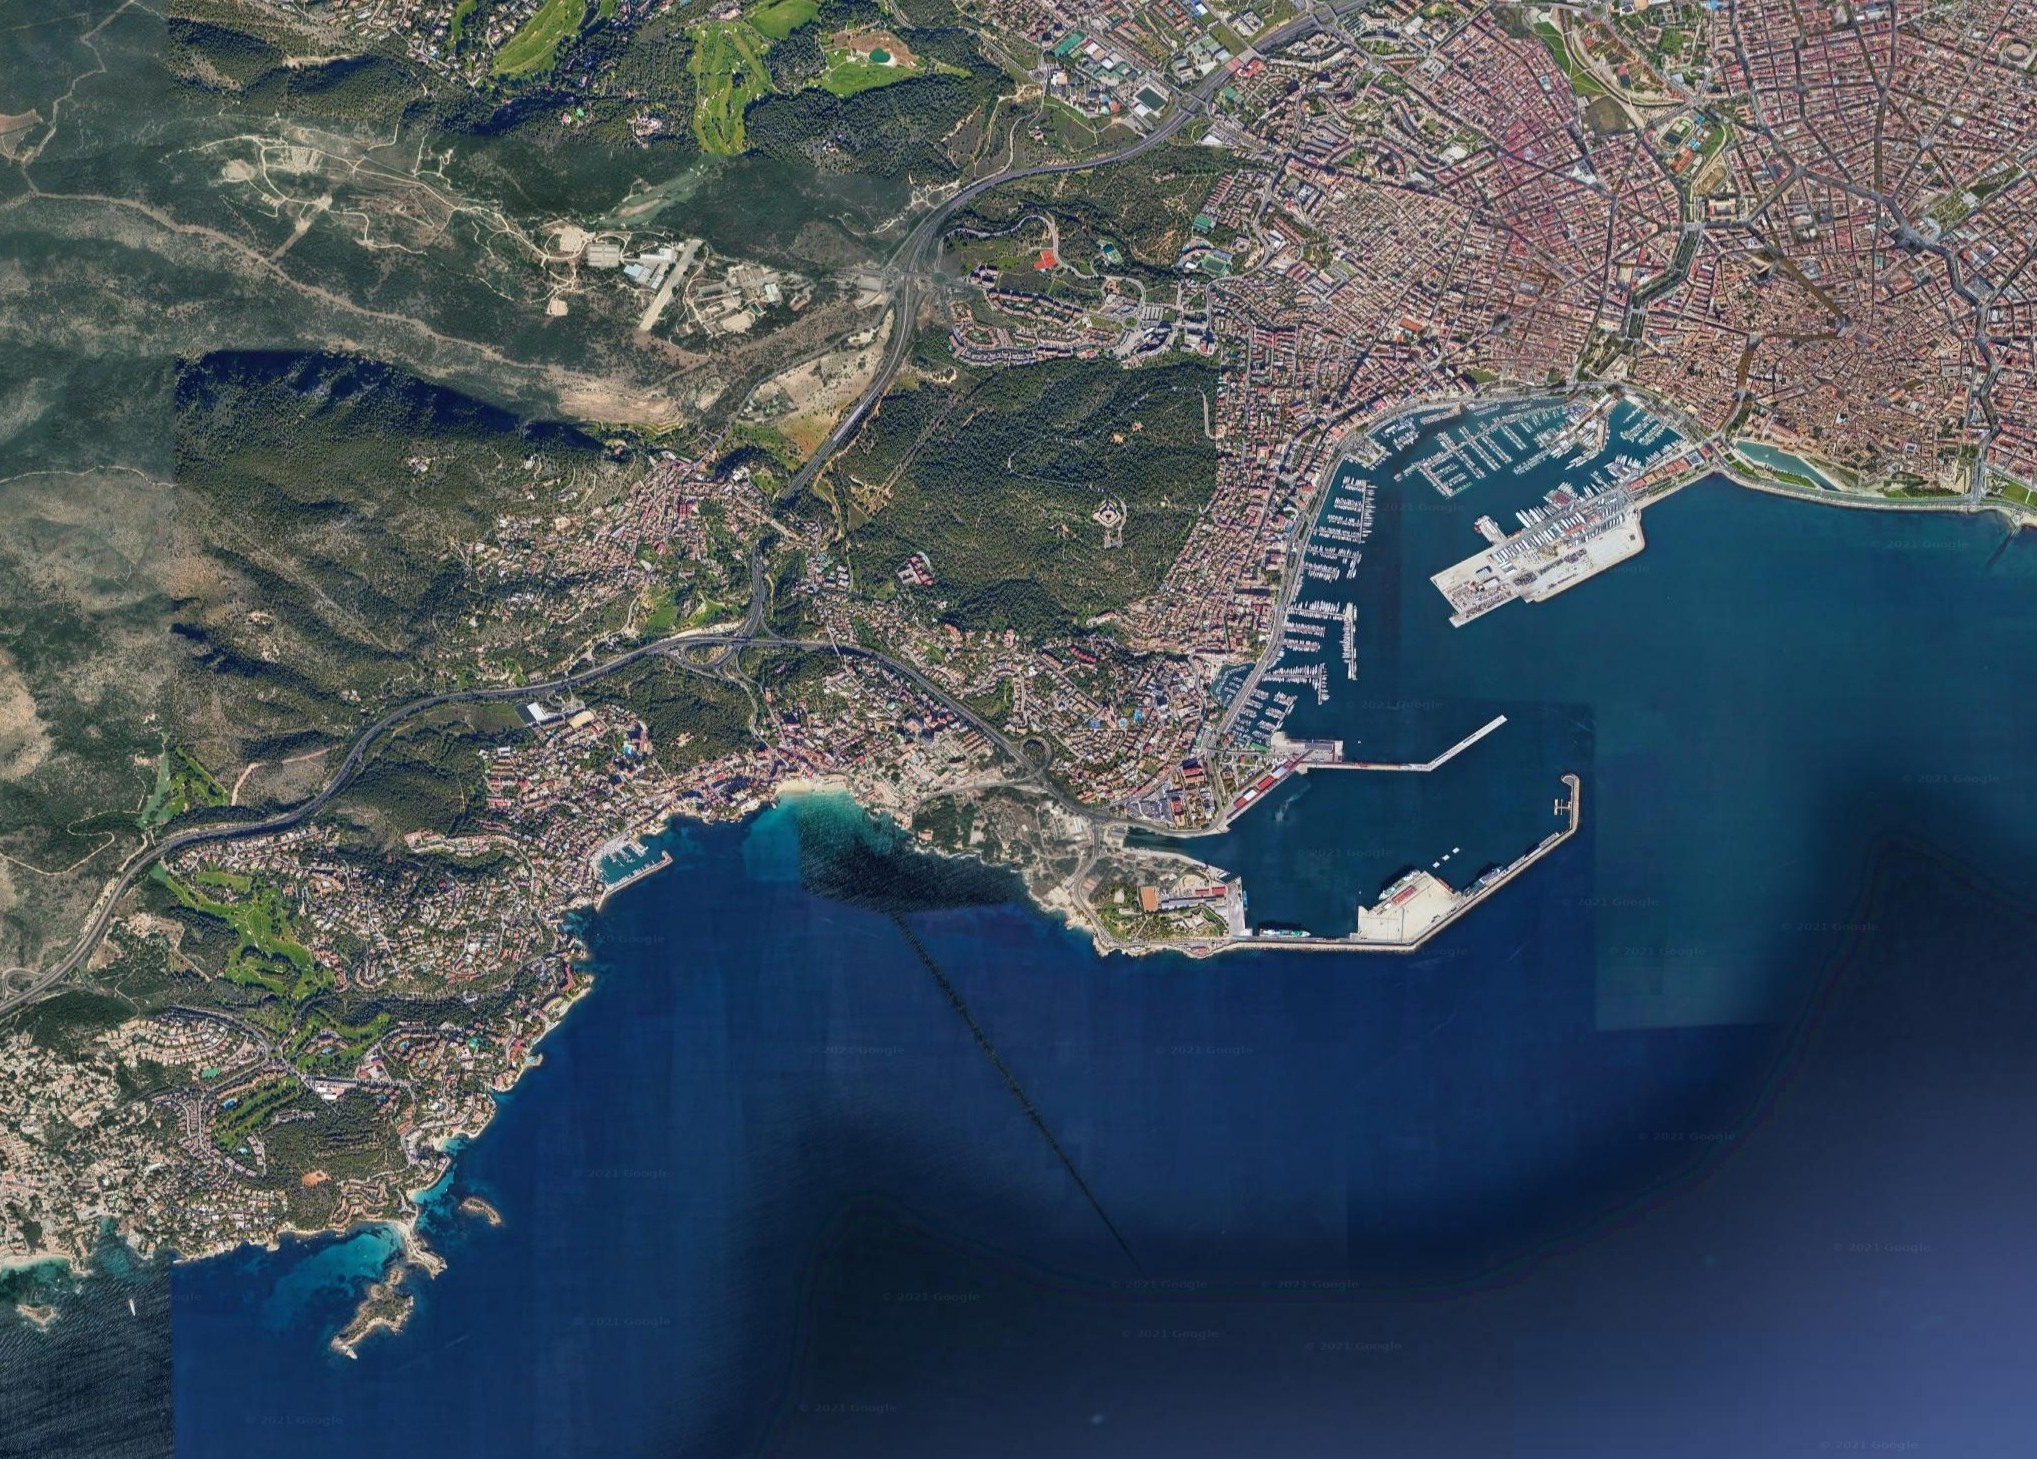harbor: (1197, 366, 1848, 981), (583, 815, 688, 906)
motorway: (786, 335, 903, 489), (242, 723, 392, 838), (99, 805, 240, 913), (573, 617, 747, 684), (384, 665, 570, 725), (902, 662, 1015, 756), (1102, 81, 1221, 167), (2, 917, 106, 1014), (887, 189, 952, 338), (954, 141, 1101, 204), (748, 616, 903, 674)
